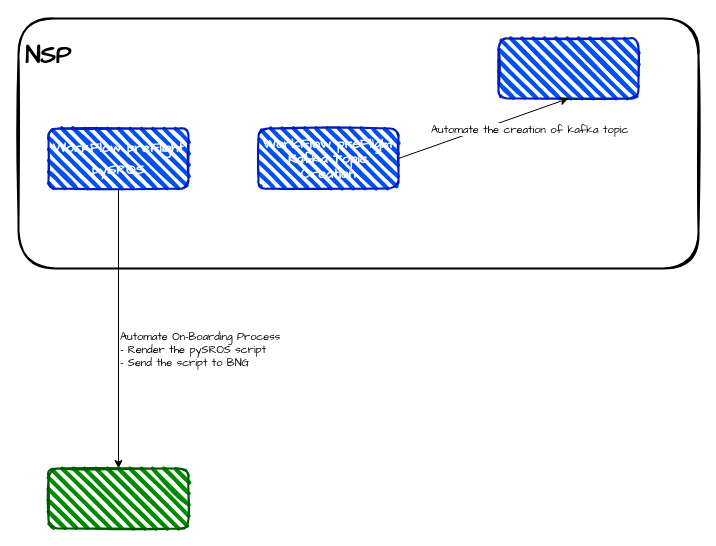
This 716x546 diagram has some shape labels left out. Here are the shapes that lost their labels. From the top down, the centre of each, then its label:
point 568,68: KAFKA
point 118,498: BNG
